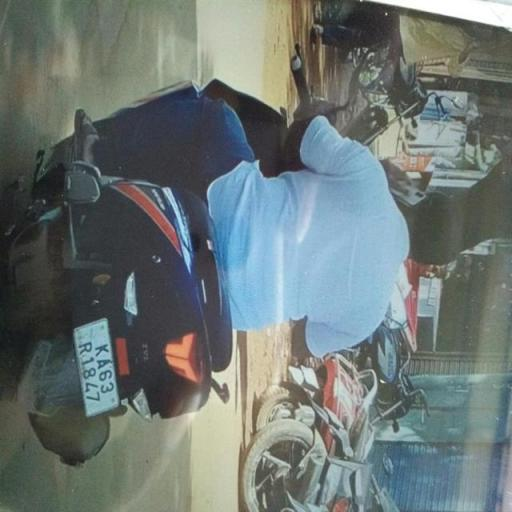using mobile: (380, 152, 430, 208)
